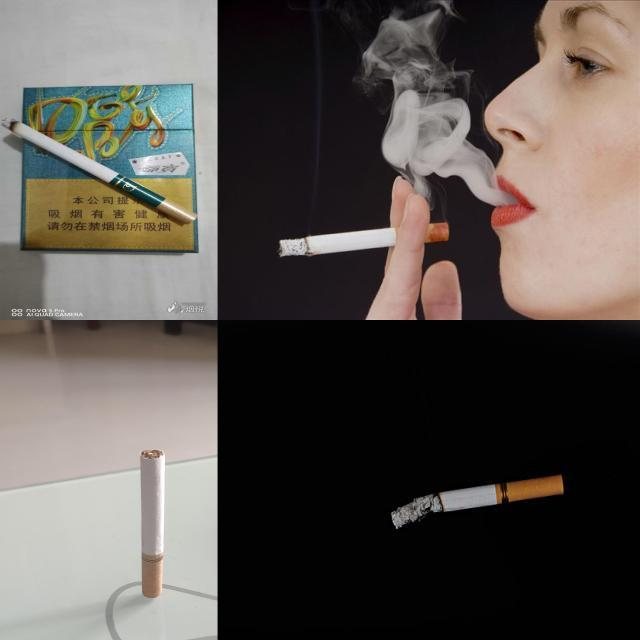smoking: (2, 117, 200, 226), (389, 474, 565, 531), (276, 220, 451, 260), (139, 449, 165, 598)
